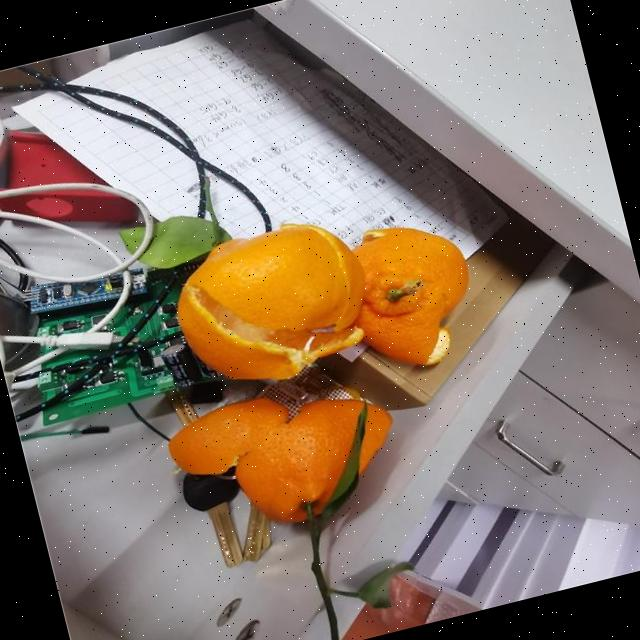orange-peel: (160, 207, 382, 400), (221, 382, 411, 534), (334, 208, 488, 380)
